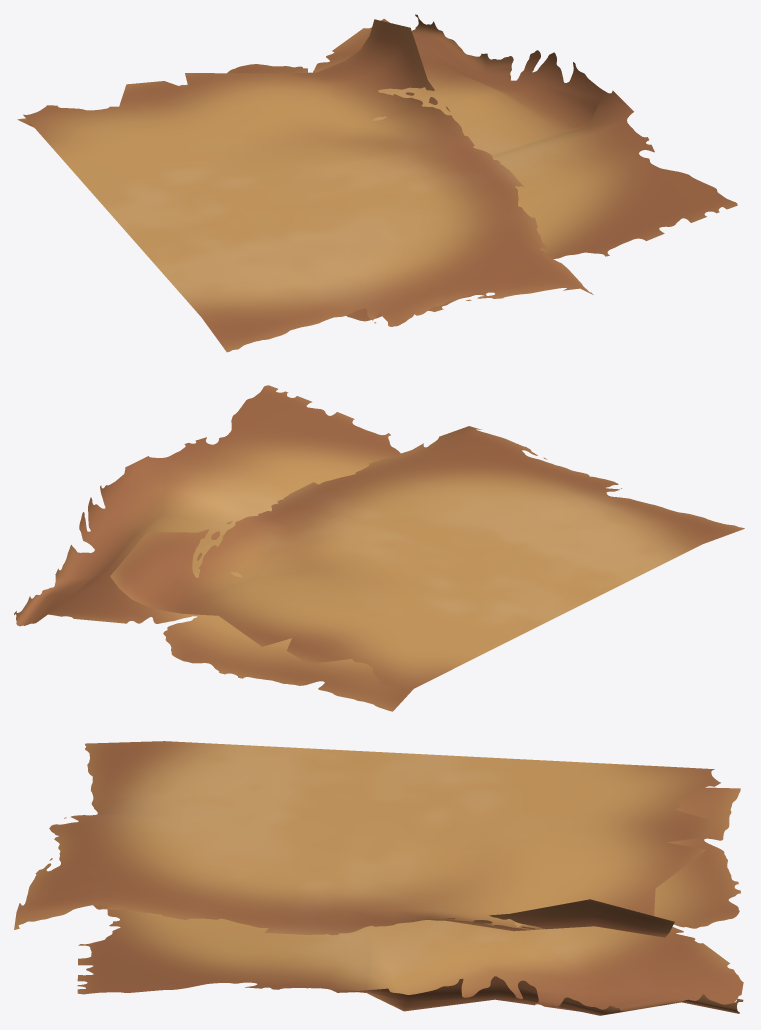
Rendered from SM_Paper_Folded.fbx.
3 views of the same model, one above another, from view 1: azimuth 30°, elevation 25°; view 2: azimuth 150°, elevation 25°; view 3: azimuth 270°, elevation 25° (orthographic). The views are drawn at different scales.
Parts seen in each view (by area): view 1: SM_Paper_Folded_LOD0; view 2: SM_Paper_Folded_LOD0; view 3: SM_Paper_Folded_LOD0.
Boxes of the visible parts, box(x1,y1,x2,y2) form: SM_Paper_Folded_LOD0: box(17, 14, 737, 352); SM_Paper_Folded_LOD0: box(14, 385, 744, 711); SM_Paper_Folded_LOD0: box(14, 741, 743, 1015).
Bounding box in the file's own units: 30.81 × 33.31 × 3.84.
Materials: 1 (1 with a texture image).
